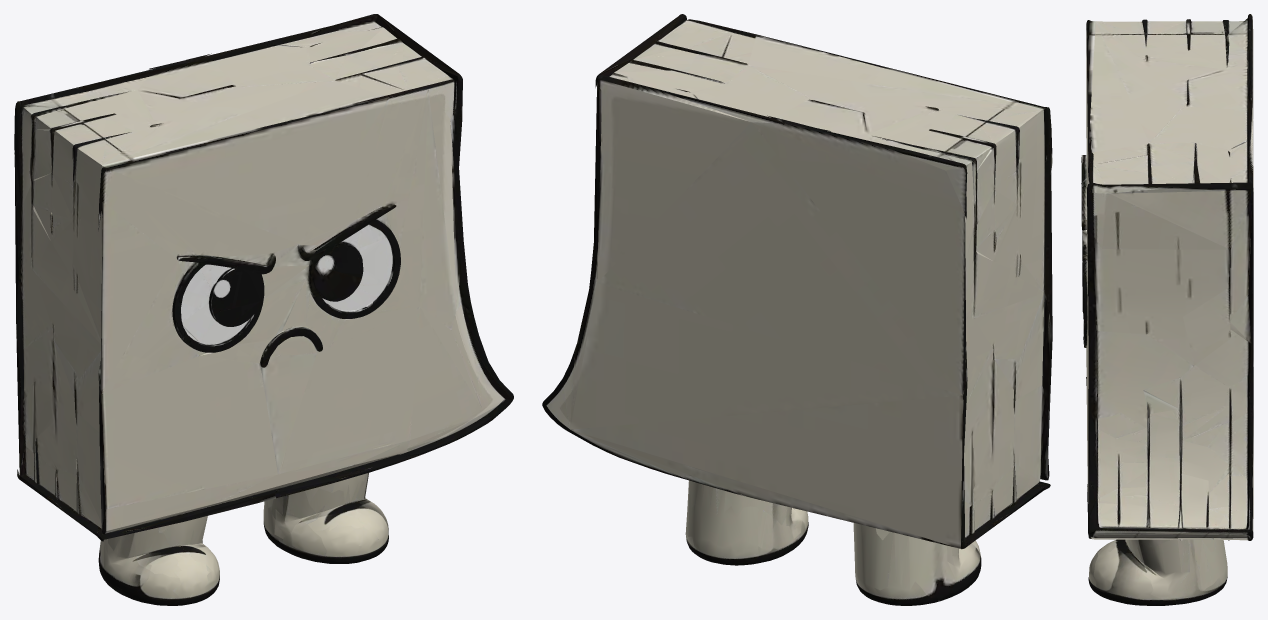
File: creep_splitter.glb
The picture shows the model from 3 angles, left to right: view 1: azimuth 30°, elevation 25°; view 2: azimuth 150°, elevation 25°; view 3: azimuth 270°, elevation 25°; orthographic projection. The views are drawn at different scales.
Bounding box in the file's own units: 1.78 × 1.9 × 0.6606.
1 material, 1 textured.
